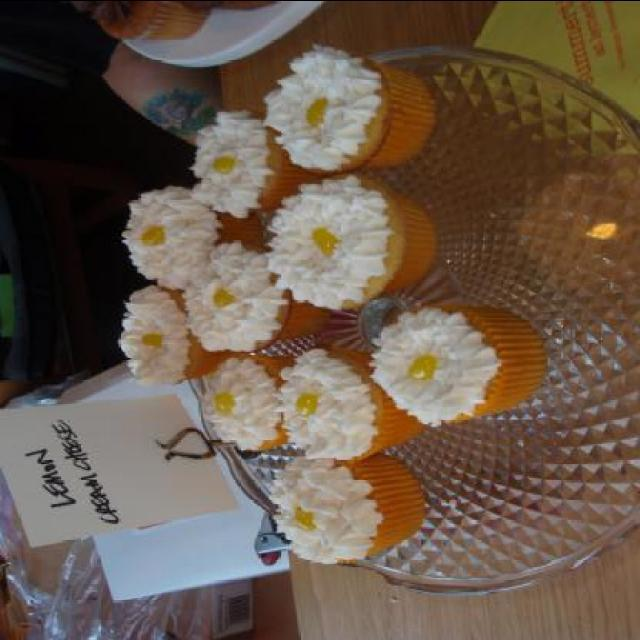Muffin: (362, 292, 556, 424), (253, 173, 436, 310), (260, 45, 438, 177), (266, 452, 428, 572), (178, 237, 332, 355), (276, 346, 421, 464), (188, 102, 326, 216), (112, 278, 240, 391), (123, 184, 260, 288), (198, 348, 300, 454), (80, 0, 202, 44), (174, 0, 280, 12)
